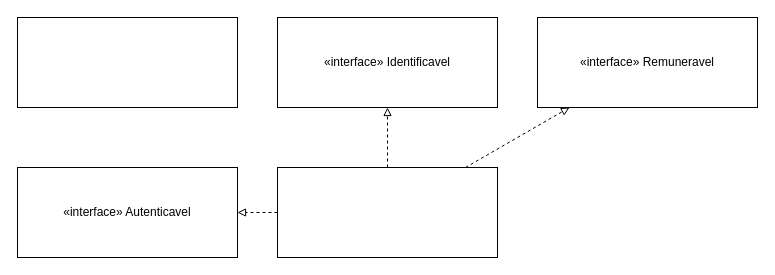
Image size: 775x275. Some labels were removed from this diagram. The centre of each missing label's shape, as x and y in pixels:
"Colaborador implements vários contratos" goes at point 387,212.
"«interface» Funcionario 5 responsabilidades" goes at point 127,62.
